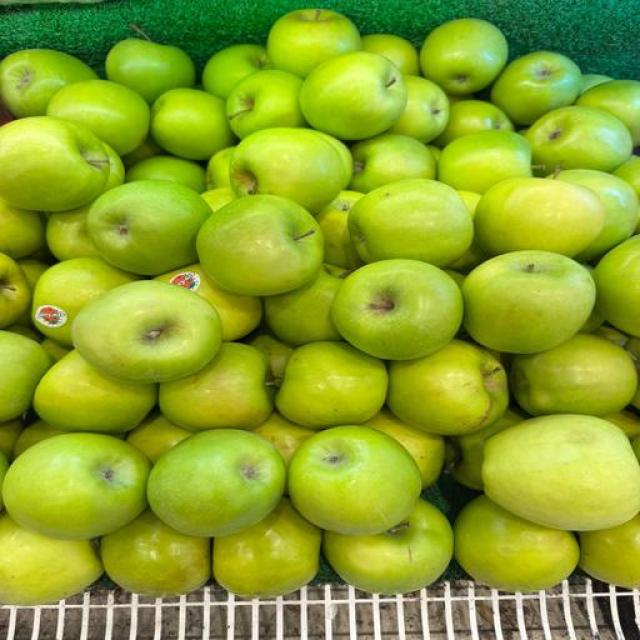organic: (320, 0, 637, 77), (333, 0, 637, 76), (482, 414, 639, 531), (348, 135, 473, 267), (3, 433, 149, 539), (73, 280, 221, 382), (148, 429, 286, 536), (288, 425, 421, 534), (462, 250, 596, 353), (332, 259, 462, 359), (197, 195, 323, 296), (323, 500, 453, 594), (454, 495, 579, 592), (87, 180, 211, 276), (388, 339, 508, 436), (213, 499, 322, 597), (510, 333, 637, 416), (474, 178, 606, 257), (0, 117, 109, 212), (34, 350, 157, 433), (229, 127, 347, 213), (159, 343, 273, 431), (100, 510, 211, 597), (277, 342, 387, 428), (300, 52, 407, 139), (32, 258, 136, 347), (0, 514, 102, 604), (157, 264, 262, 341), (525, 105, 633, 176), (47, 79, 149, 154), (558, 169, 638, 261), (0, 44, 97, 117), (420, 17, 508, 96), (263, 264, 346, 344), (490, 52, 581, 124), (267, 8, 361, 77), (364, 408, 444, 488), (150, 88, 234, 161), (104, 38, 196, 103), (438, 130, 532, 193), (452, 408, 524, 489), (227, 69, 304, 138), (349, 133, 436, 193), (0, 330, 51, 422), (594, 237, 639, 336), (579, 515, 639, 588), (389, 74, 449, 143), (203, 44, 272, 99), (434, 99, 513, 147), (317, 190, 362, 268), (8, 258, 49, 341), (127, 413, 192, 463), (255, 412, 314, 464), (127, 155, 206, 193), (47, 204, 98, 261), (0, 199, 44, 259), (362, 33, 419, 76), (0, 253, 31, 328), (582, 309, 636, 352), (314, 130, 353, 188), (249, 333, 293, 384), (13, 420, 64, 458), (447, 229, 487, 274), (604, 409, 639, 446), (205, 147, 234, 191), (123, 137, 164, 168), (17, 254, 49, 289), (103, 142, 124, 192), (614, 155, 639, 196), (0, 419, 23, 459), (202, 187, 236, 211), (40, 338, 69, 361), (580, 74, 612, 94), (7, 323, 39, 341), (0, 454, 8, 509), (624, 337, 639, 362), (632, 437, 639, 461)
